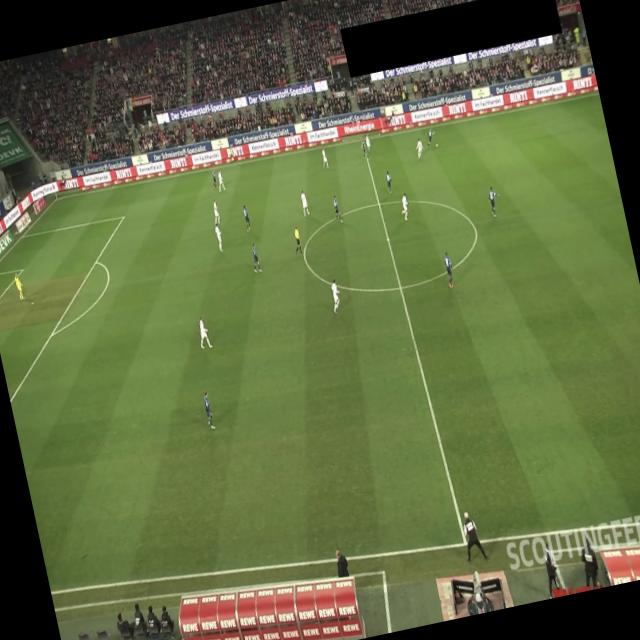ball: (434, 142, 438, 148)
goalkeeper: (12, 271, 25, 300)
player: (194, 314, 213, 350), (326, 278, 343, 314), (201, 388, 216, 428), (441, 249, 456, 288), (486, 184, 504, 216), (248, 240, 262, 272), (209, 198, 222, 227), (398, 192, 411, 220), (213, 222, 225, 252), (298, 189, 310, 216), (214, 168, 227, 192), (422, 128, 437, 148), (332, 194, 342, 222), (242, 204, 252, 232), (414, 136, 426, 159), (384, 168, 394, 192), (320, 146, 330, 169), (210, 169, 219, 189), (359, 138, 368, 158), (364, 133, 372, 152)
referee: (290, 224, 303, 254), (227, 146, 236, 164)
